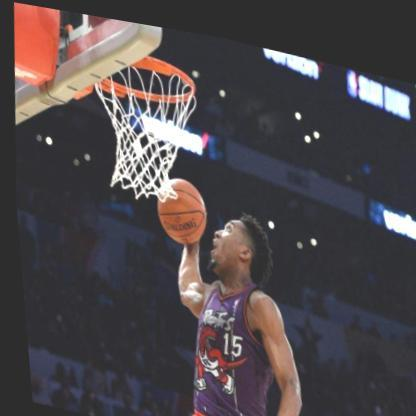basketball: (150, 167, 208, 245)
rim: (84, 37, 204, 205)
